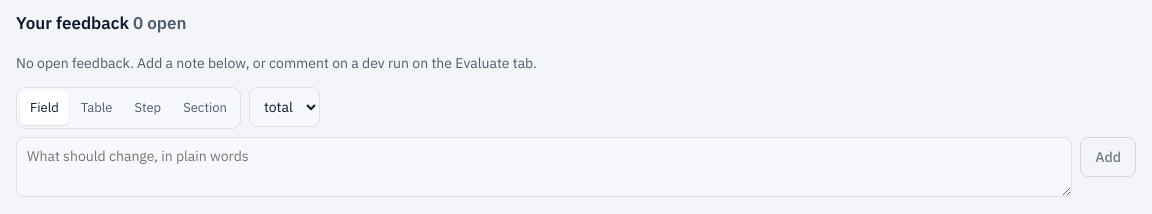
Test case: ReviseFeedback › says why Add is disabled
Expected: the button "Add" is disabled, top-left (1080, 137), bottom-right (1136, 177)
Click the button "Table" at (97, 108), box top-left (71, 91), bottom-right (122, 125)
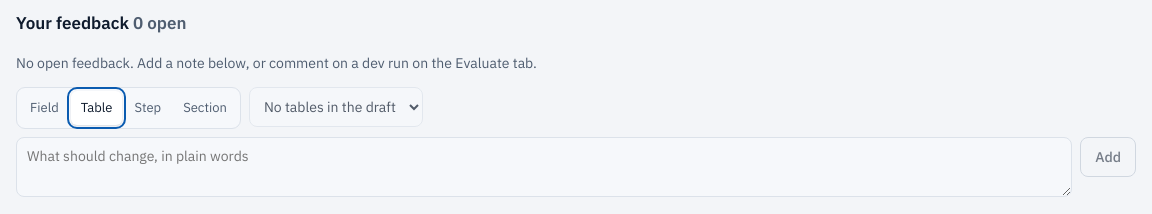
Now the dropdown named "Id" is disabled, box top-left (249, 87), bottom-right (423, 127)
